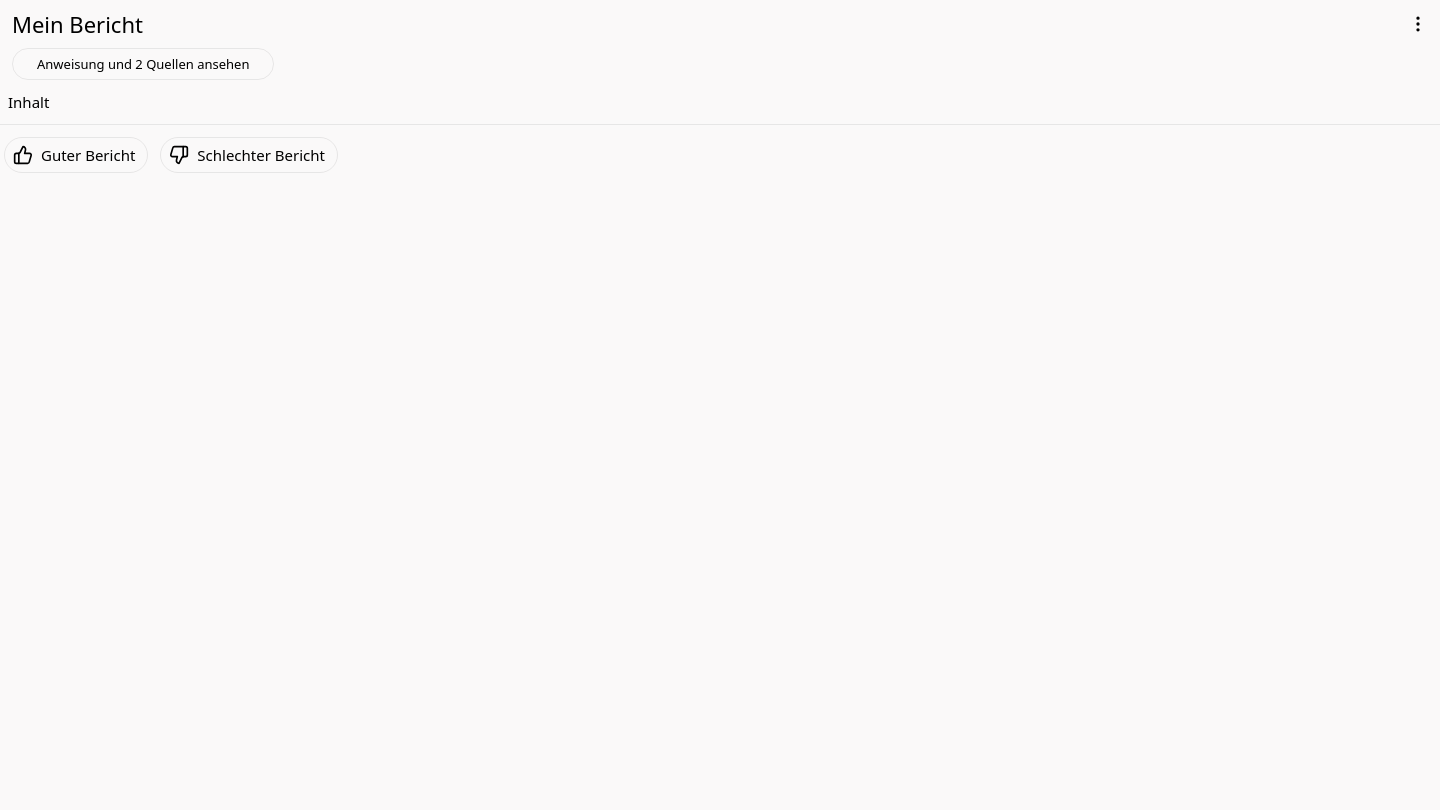
ViewerFrame › opens the prompt and the sources behind a chip that counts them
Click the button "Anweisung und 2 Quellen ansehen" at [143, 64], box [12,48,274,80]
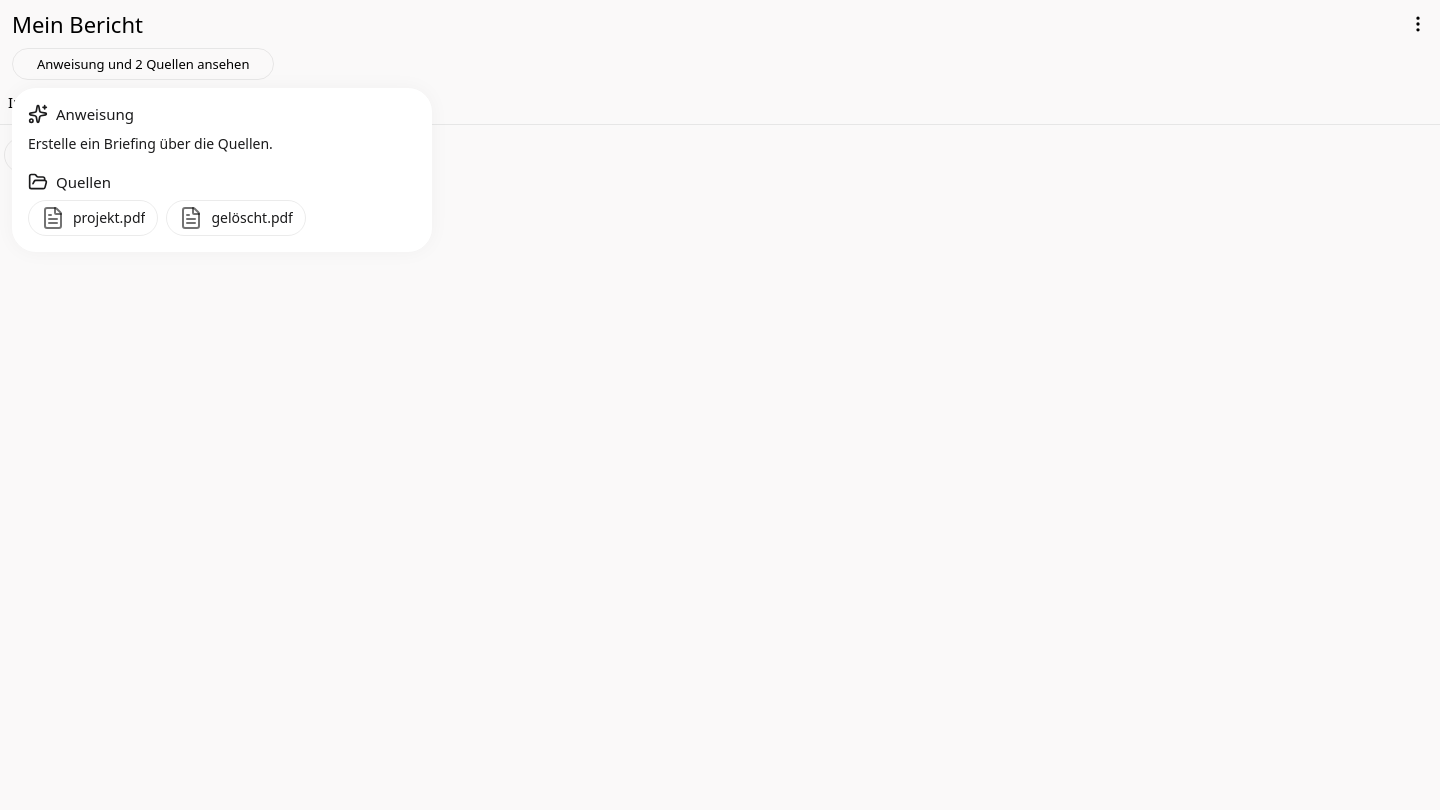
Result: the text "Erstelle ein Briefing über die Quellen." is shown at [28,134,273,153]
Result: the text "projekt.pdf" is shown at [73,208,145,228]
Result: the text "gelöscht.pdf" is shown at [211,208,293,228]
